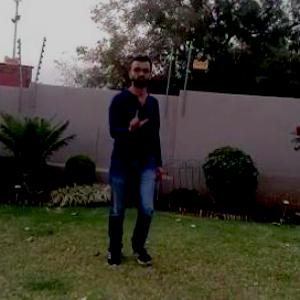land_hand: (126, 105, 154, 131)
